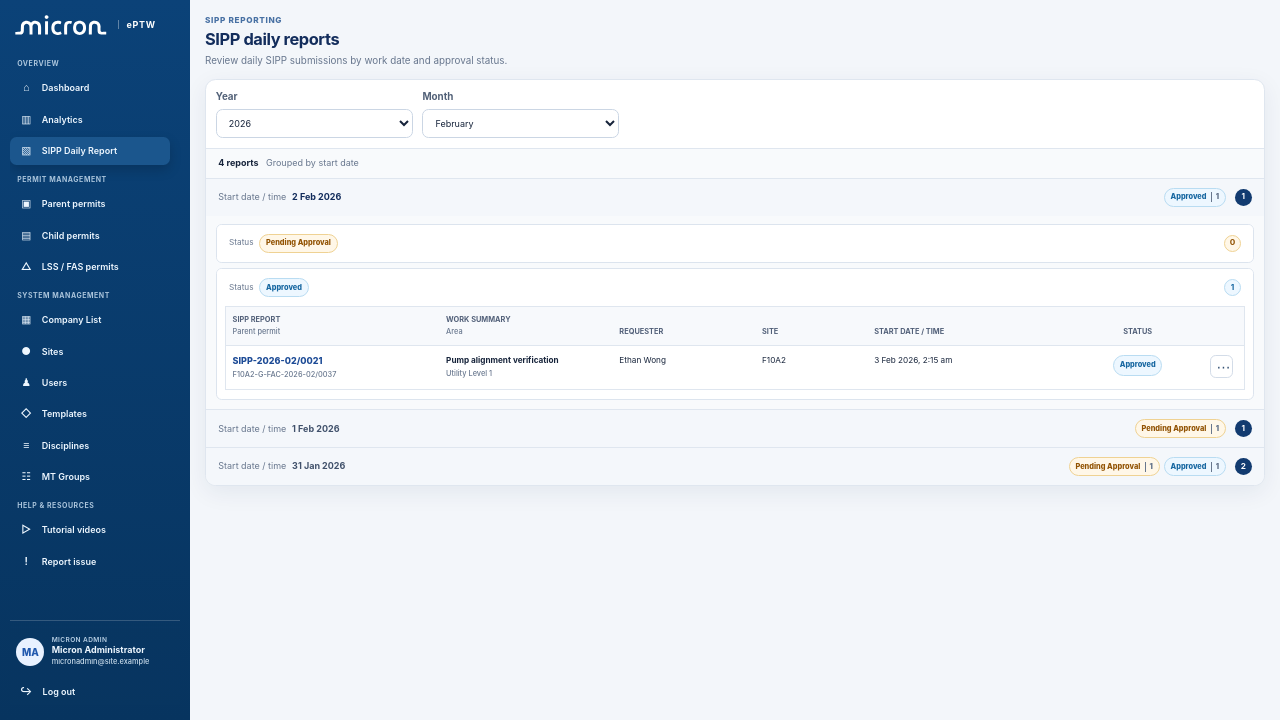
Scenario: application shell › groups SIPP reports by date and filters by year and month
The width and height of the screenshot is (1280, 720).
Expected: the heading "SIPP daily reports" is shown, 205,29 -> 339,49
Expected: the text "Pending Approval" is shown, 259,234 -> 338,253
Step 1. Select "March" in the dropdown named "Filter SIPP reports by month" → (521, 123), box 422,108 -> 619,138
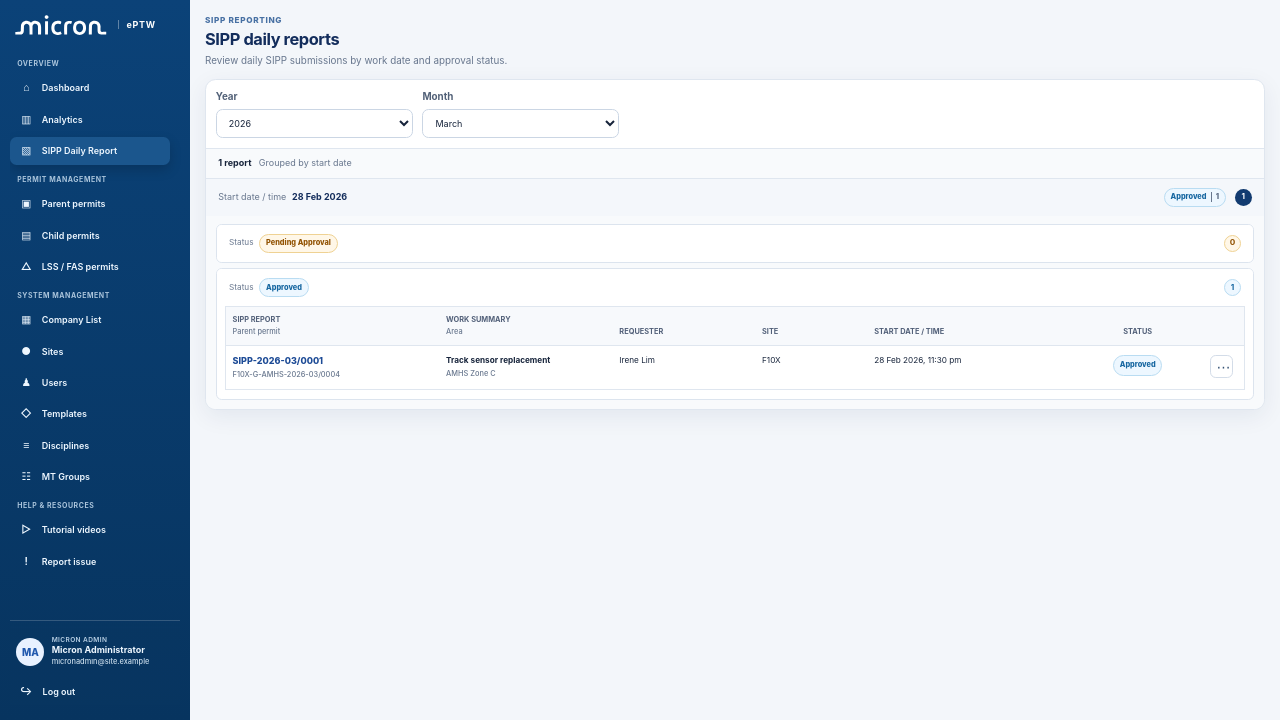
Expected: the link "SIPP-2026-03/0001" is shown, 232,355 -> 323,366
